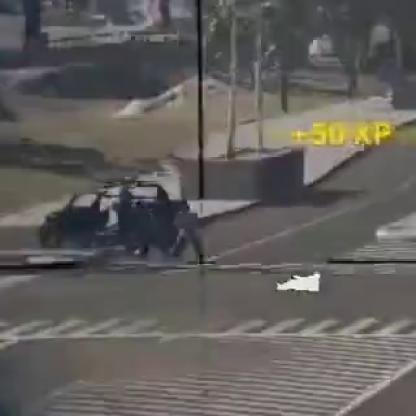enemy: (168, 201, 208, 264)
